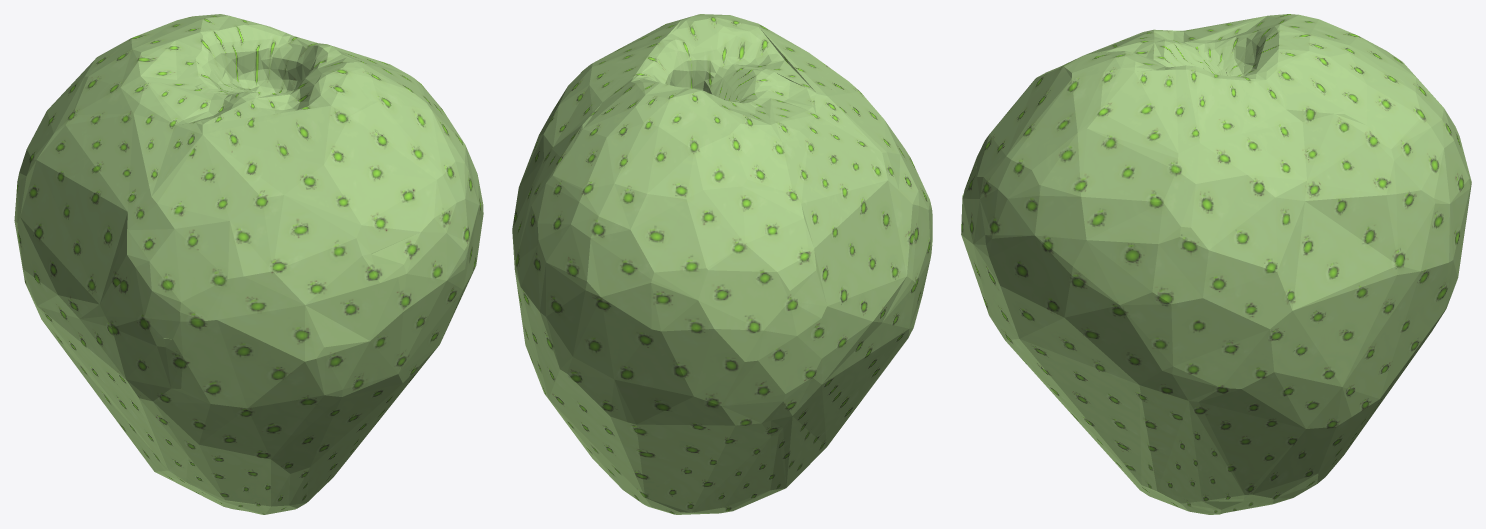
The picture shows the model from 3 angles, left to right: view 1: azimuth 30°, elevation 25°; view 2: azimuth 150°, elevation 25°; view 3: azimuth 270°, elevation 25°; orthographic projection. The views are drawn at different scales.
Parts seen in each view (by area): view 1: _001_Meshed; view 2: _001_Meshed; view 3: _001_Meshed.
Boxes of the visible parts, x1=… form: _001_Meshed: x1=14, y1=14, x2=483, y2=514; _001_Meshed: x1=512, y1=14, x2=932, y2=514; _001_Meshed: x1=961, y1=14, x2=1471, y2=514.
Size of the model in its own units: 0.0955 by 0.1113 by 0.1115.
1 material, 1 textured.
